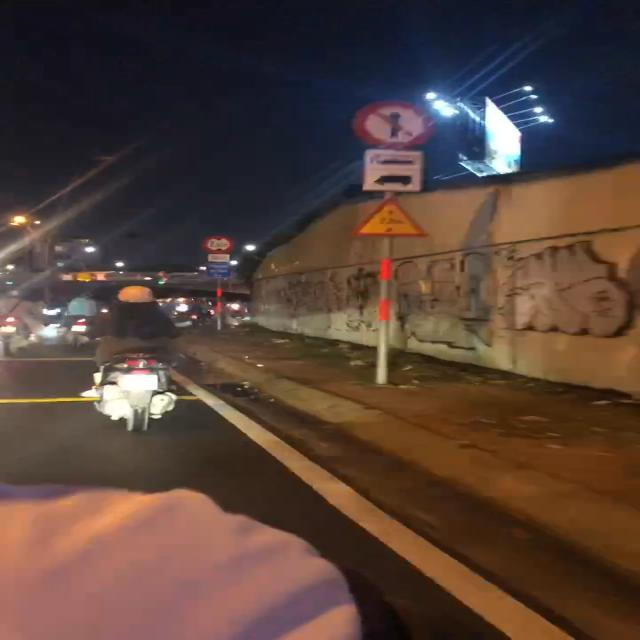Bien bao cam di thang: (351, 96, 434, 148)
